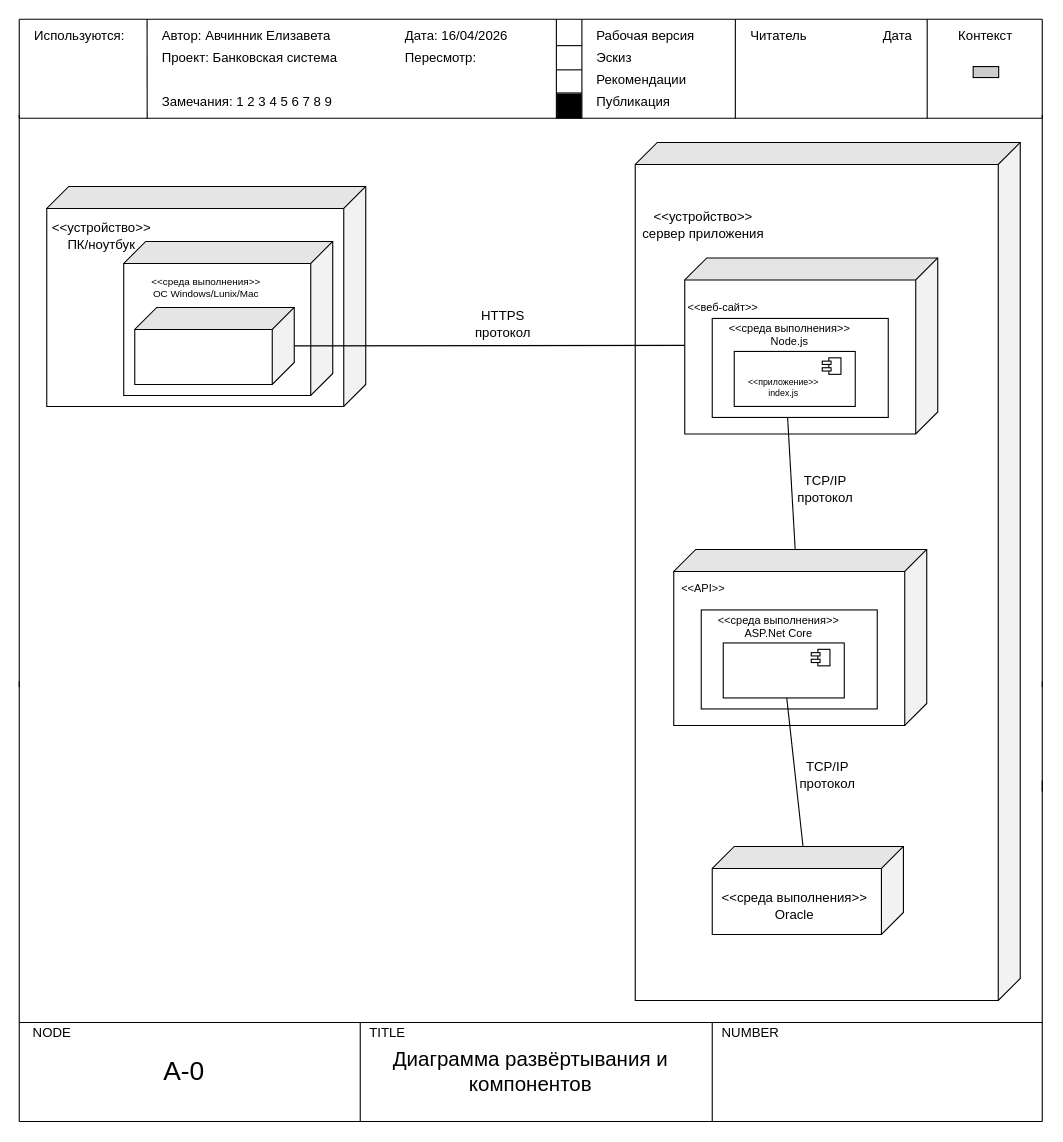
Some shapes in this 1063 by 1142 pixel diagram are drawn without their labels. The centre of each missing label's shape, as x and y in pixels:
"<<Веб-браузер>>" belongs at (214,345).
"<<приложение>> Program.cs" belongs at (783,670).
